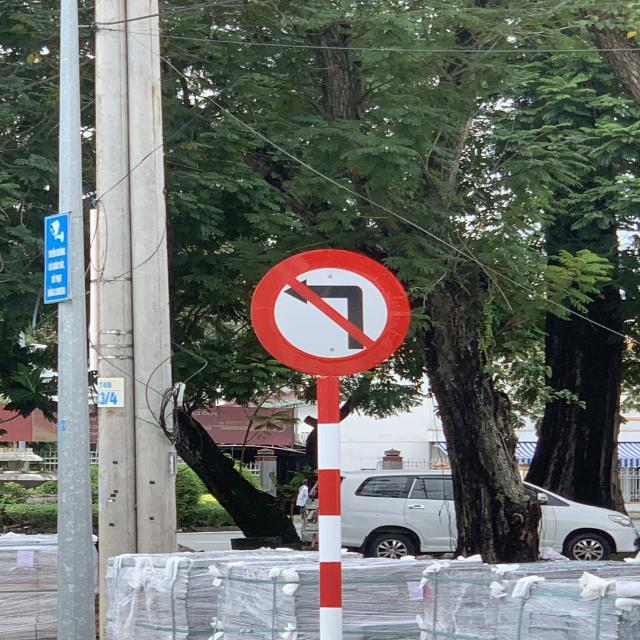Cam_Re_Trai: (250, 248, 412, 376)
